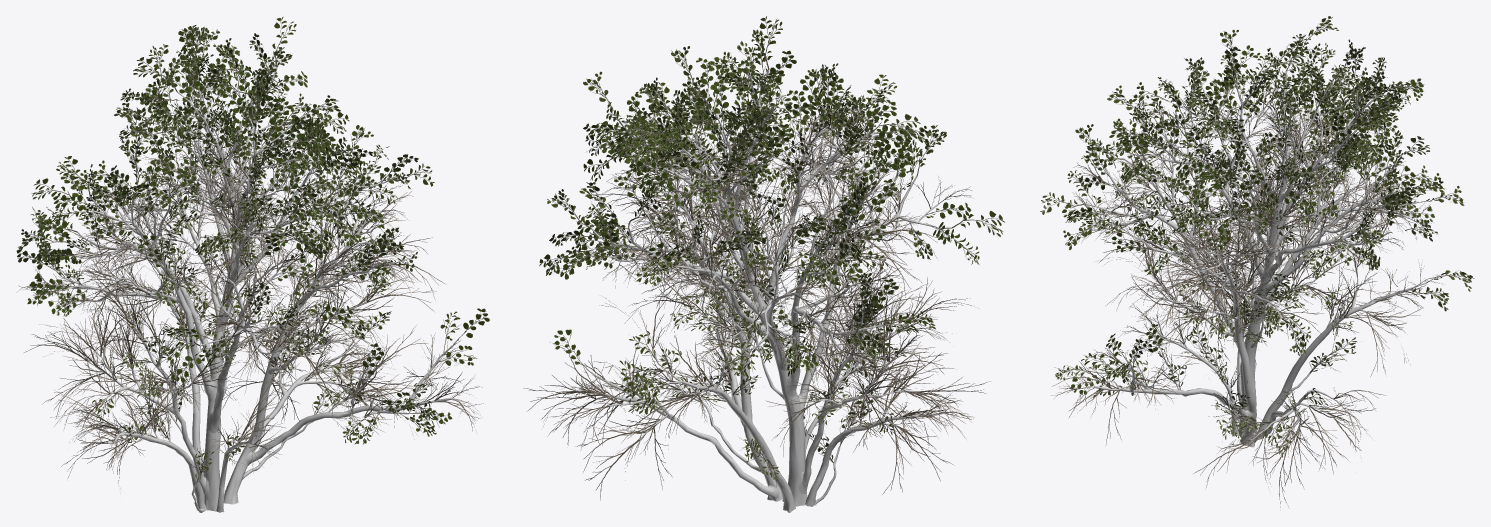
Rendered from blackadder_no5.FBX.
3 renders of one model, left to right at view 1: azimuth 30°, elevation 25°; view 2: azimuth 150°, elevation 25°; view 3: azimuth 270°, elevation 25°, orthographic. The views are drawn at different scales.
Parts seen in each view (by area): view 1: BlackAlder_Field_05; view 2: BlackAlder_Field_05; view 3: BlackAlder_Field_05.
Part boxes in pixels (x1,y1,x2,y2): BlackAlder_Field_05: [16, 16, 489, 512]; BlackAlder_Field_05: [523, 16, 1004, 512]; BlackAlder_Field_05: [1040, 16, 1474, 508].
Bounding box in the file's own units: 674 × 742 × 701.
